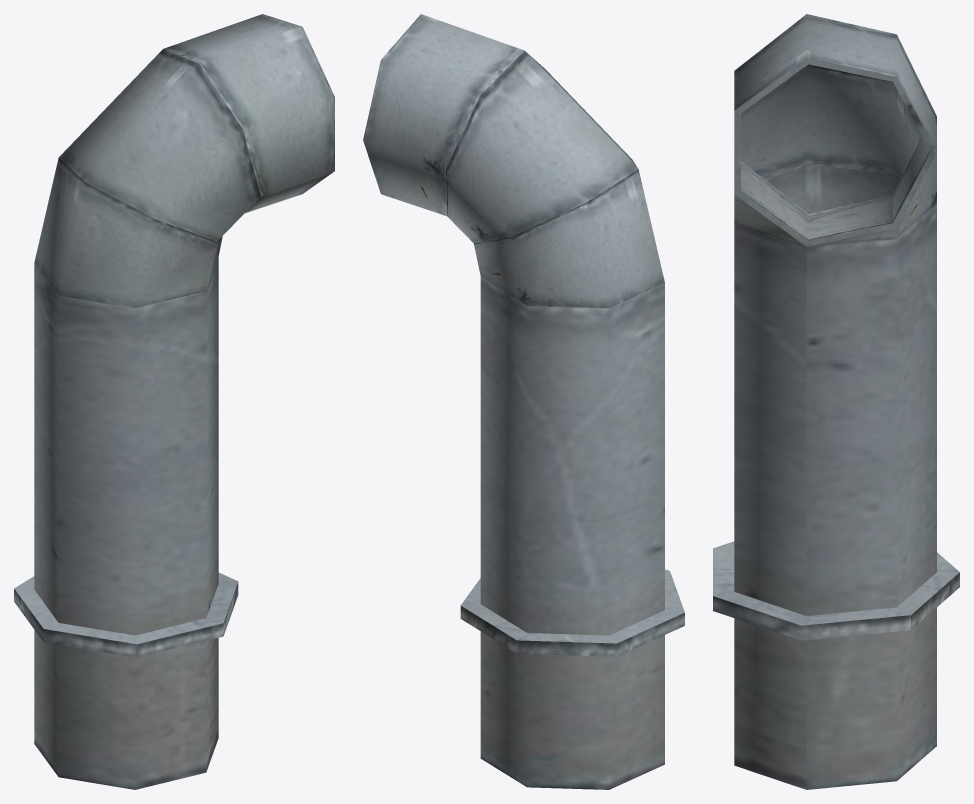
Rendered from Pipe.fbx.
3 views of the same model, side by side, from view 1: azimuth 30°, elevation 25°; view 2: azimuth 150°, elevation 25°; view 3: azimuth 270°, elevation 25° (orthographic). The views are drawn at different scales.
Parts seen in each view (by area): view 1: Pipe; view 2: Pipe; view 3: Pipe.
Boxes of the visible parts, box(x1,y1,x2,y2) form: Pipe: box(14, 14, 334, 789); Pipe: box(363, 14, 684, 789); Pipe: box(713, 14, 959, 789).
Size of the model in its own units: 82.44 by 208 by 59.89.
